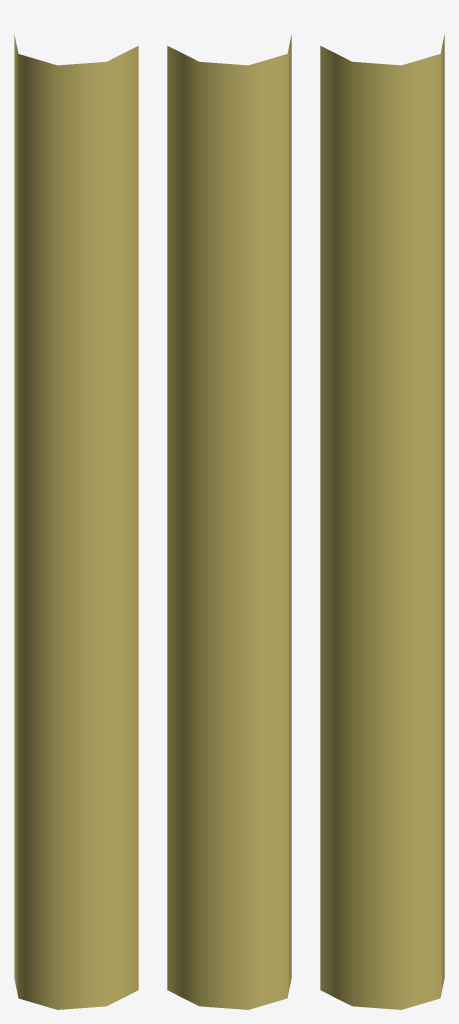
Rendered from lateral-reticulospinal-tract.glb.
3 views of the same model, side by side, from view 1: azimuth 30°, elevation 25°; view 2: azimuth 150°, elevation 25°; view 3: azimuth 330°, elevation 25° (orthographic).
Visible parts, largest first — view 1: Lateral reticulospinal tract; view 2: Lateral reticulospinal tract; view 3: Lateral reticulospinal tract.
Part boxes in pixels (left/top/right/bottom): Lateral reticulospinal tract: left=14, top=34, right=138, bottom=1009; Lateral reticulospinal tract: left=167, top=34, right=291, bottom=1009; Lateral reticulospinal tract: left=320, top=34, right=444, bottom=1009.
Size of the model in its own units: 0.000643 by 0.005 by 0.000579.
